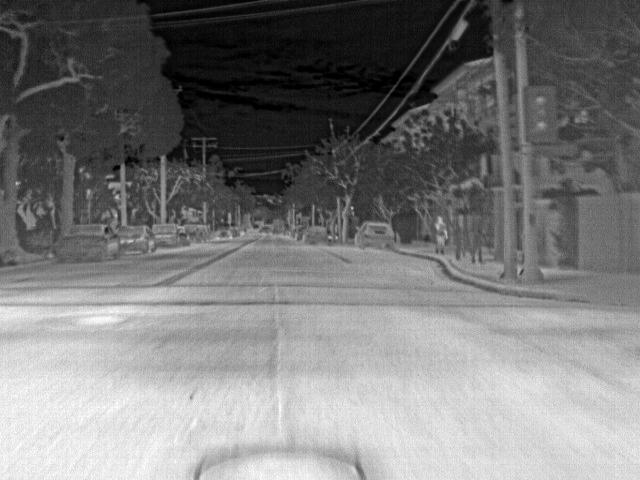car: (52, 223, 117, 261), (354, 220, 399, 252), (115, 225, 154, 255), (153, 222, 178, 248), (305, 225, 328, 244), (176, 224, 193, 245), (195, 223, 213, 242), (186, 222, 200, 244), (294, 223, 309, 241), (213, 230, 231, 242), (273, 220, 286, 234), (240, 226, 253, 238), (288, 223, 300, 235), (232, 228, 244, 239), (261, 224, 272, 234)
person: (432, 213, 447, 256)
